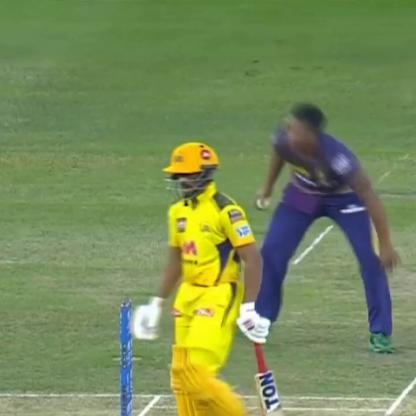ball: (255, 194, 270, 210)
